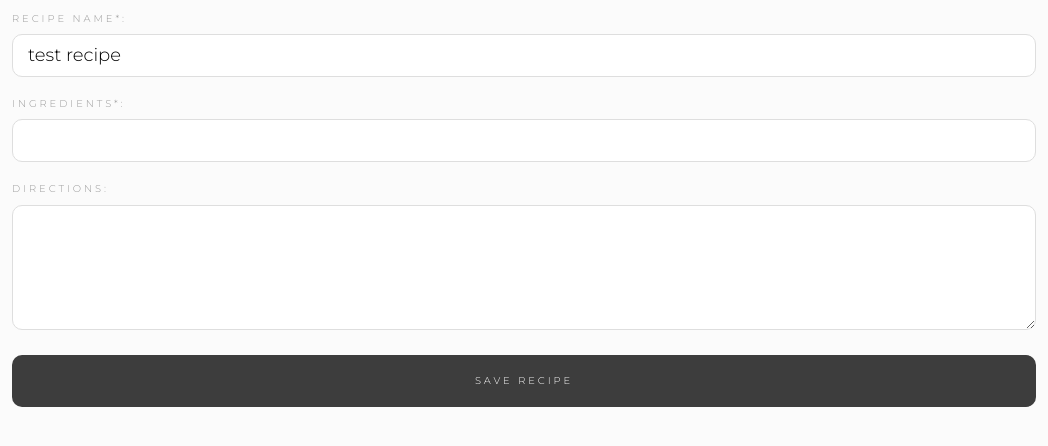
Test: Form component validates the ingredients field
Click the button with test id "submit-form-btn": {"x": 524, "y": 381} [12,355,1036,407]
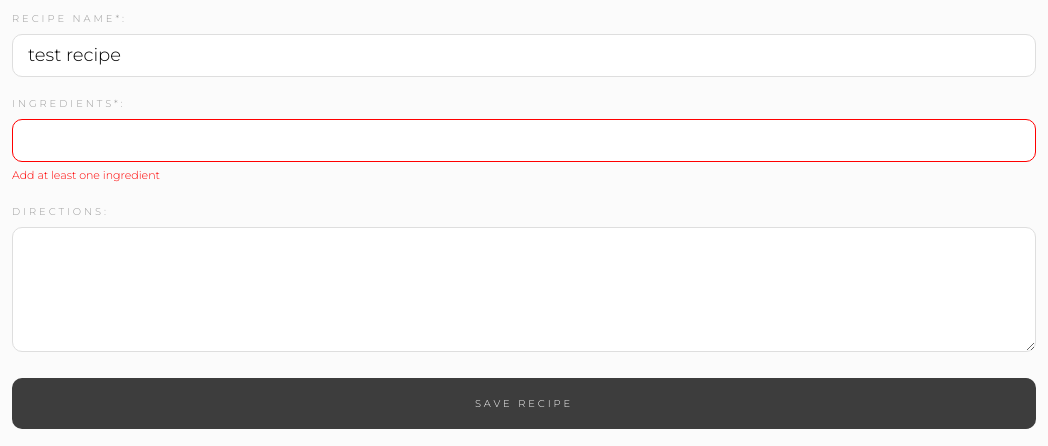
Now the text "Add at least one ingredient" is shown, box [12,168,160,182]
